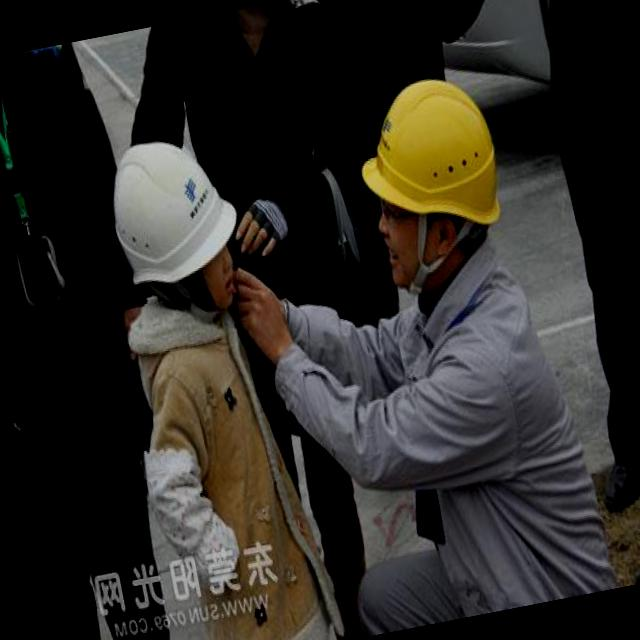helmet: (343, 51, 518, 250), (92, 125, 250, 295)
no-vest: (305, 240, 592, 626), (98, 303, 316, 640)
